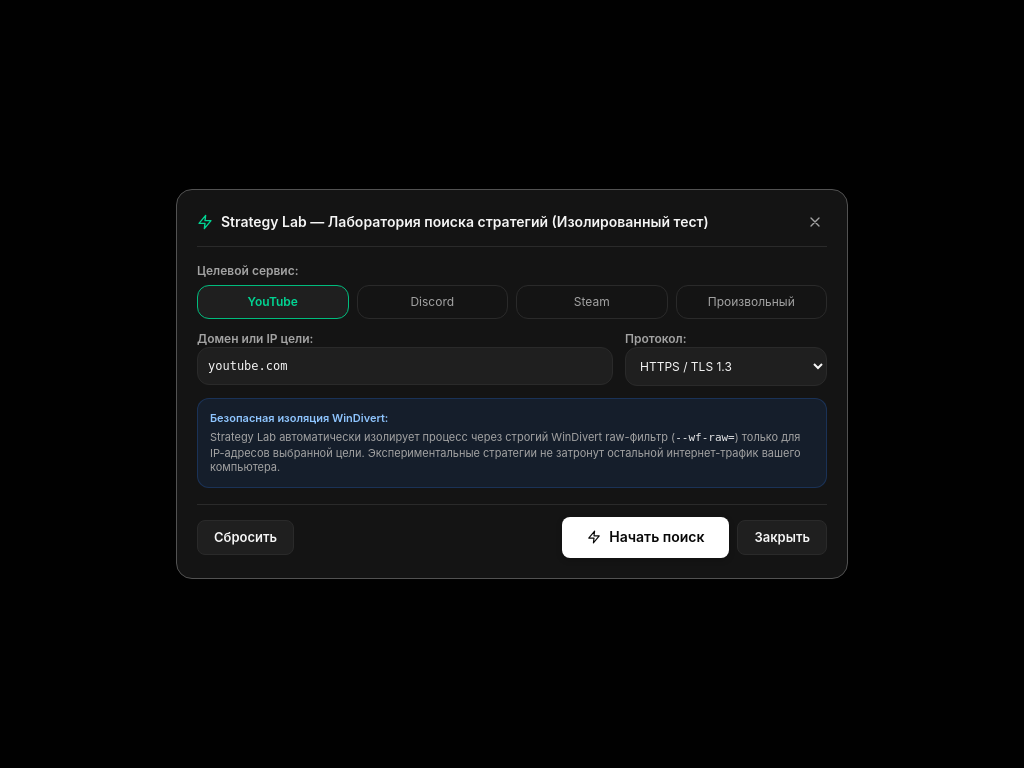
Test: StrategyLabModal Tests › disables saving when validationStatus is FAILED
Click the button "Начать поиск": (646, 537) [562, 517, 730, 558]
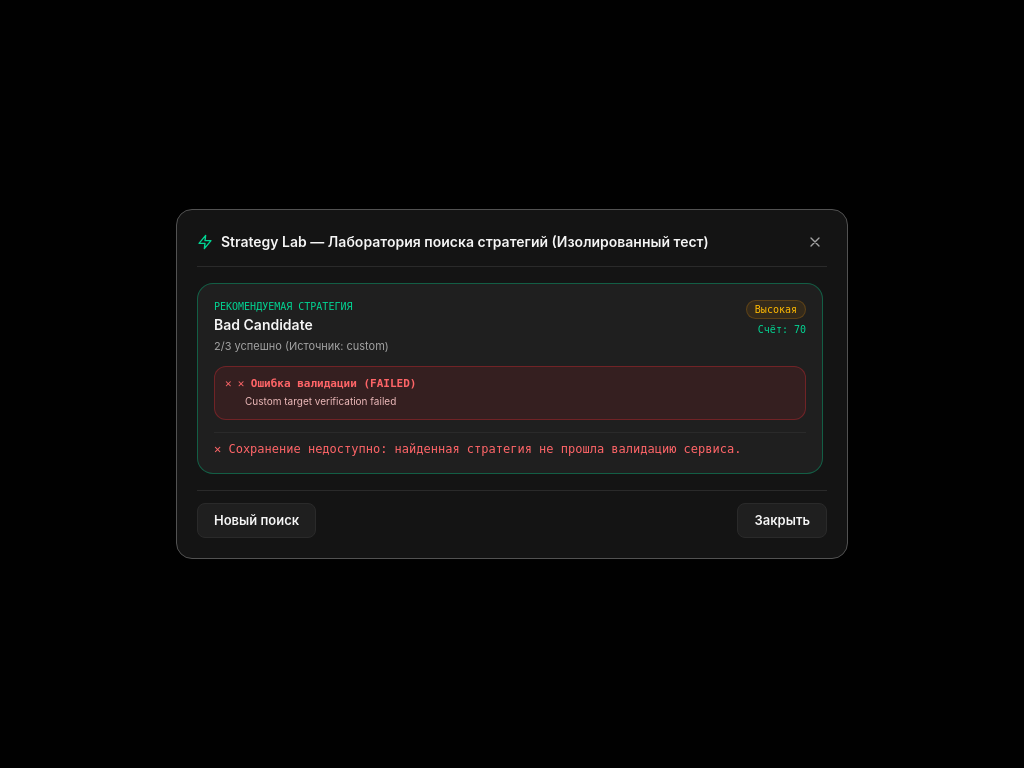
Expected: the text "✕ Ошибка валидации (FAILED)" is shown, [238, 377, 416, 392]
Expected: the text "Сохранение недоступно: найденная стратегия не прошла валидацию сервиса" is shown, [214, 442, 741, 456]
